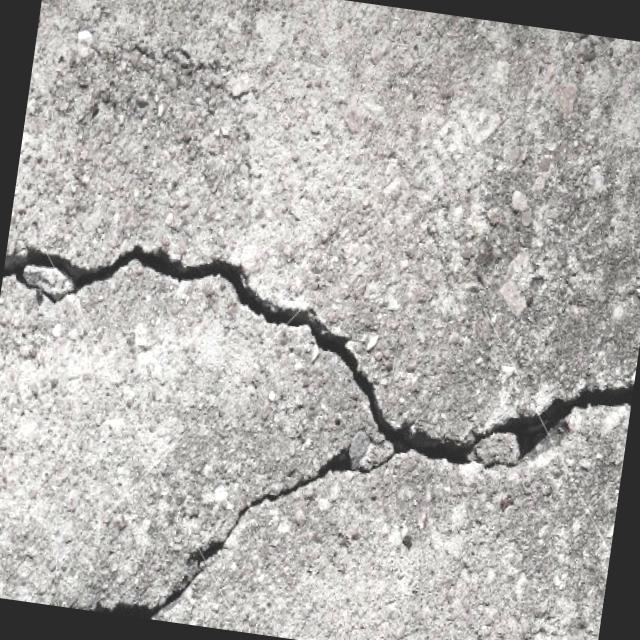crack: (309, 330, 634, 530), (0, 220, 341, 354), (92, 448, 310, 636)
